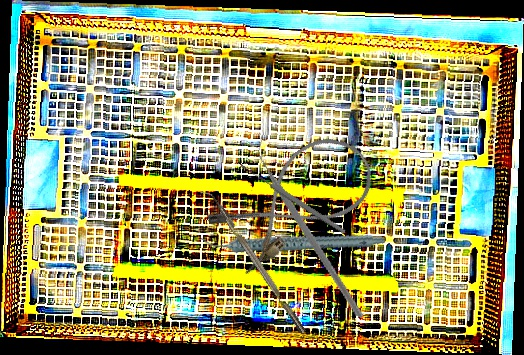Cannula: (202, 122, 386, 279)
Chopper: (208, 136, 415, 319), (198, 184, 307, 340)
Handpiece: (199, 197, 387, 284)
Surgical Spoon: (239, 161, 347, 236)
